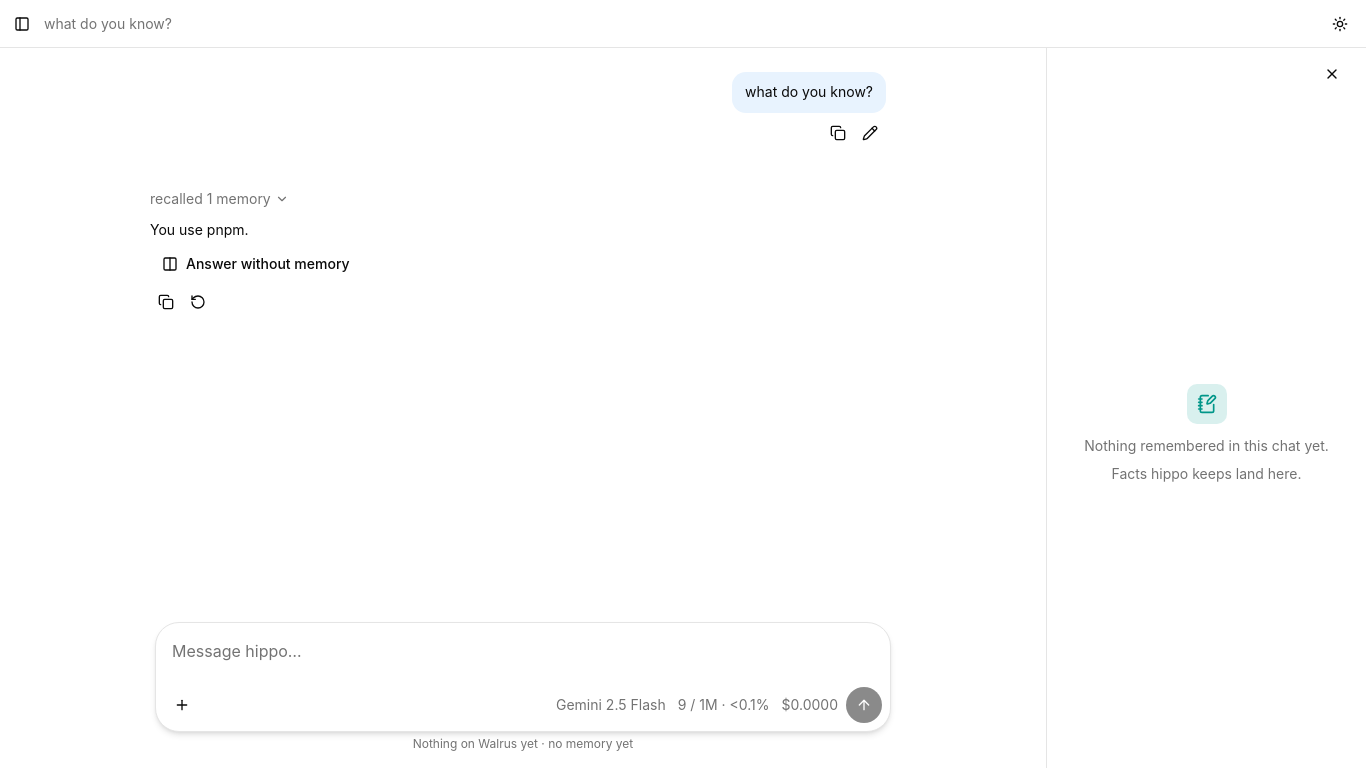
Test: chat page › shows the memory a reopened answer used, and leaves a hidden one out
The width and height of the screenshot is (1366, 768).
Expected: the text "I use pnpm" is not shown
What coordinates should you click on to do the following:
click the button "recalled 1 memory"
I would click on:
 (219, 199)
Its box is x1=150 y1=189 x2=289 y2=209.
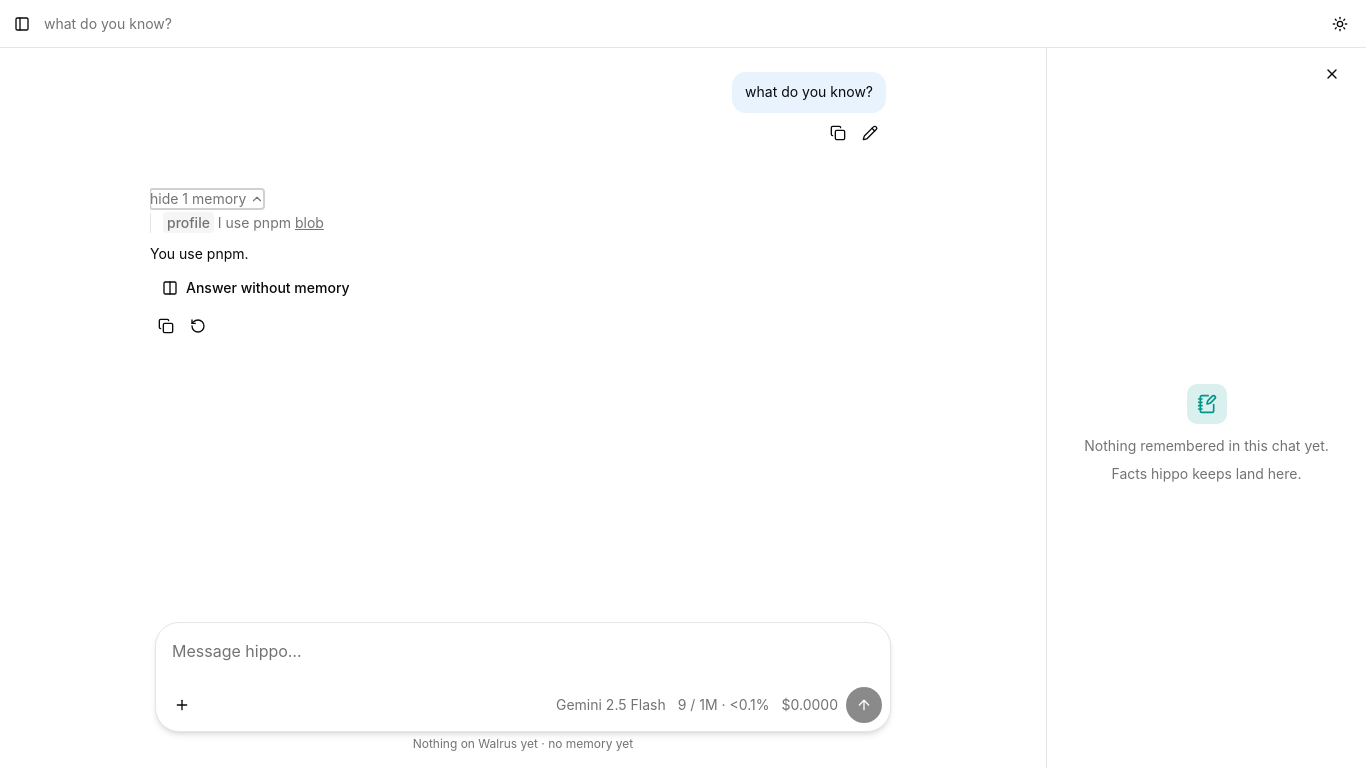
Expected: the list item "profile I use pnpm blob" is shown, x1=163 y1=212 x2=324 y2=233
